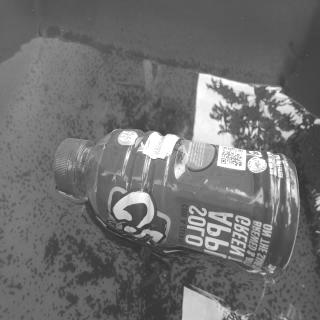bottle: (52, 123, 301, 274)
